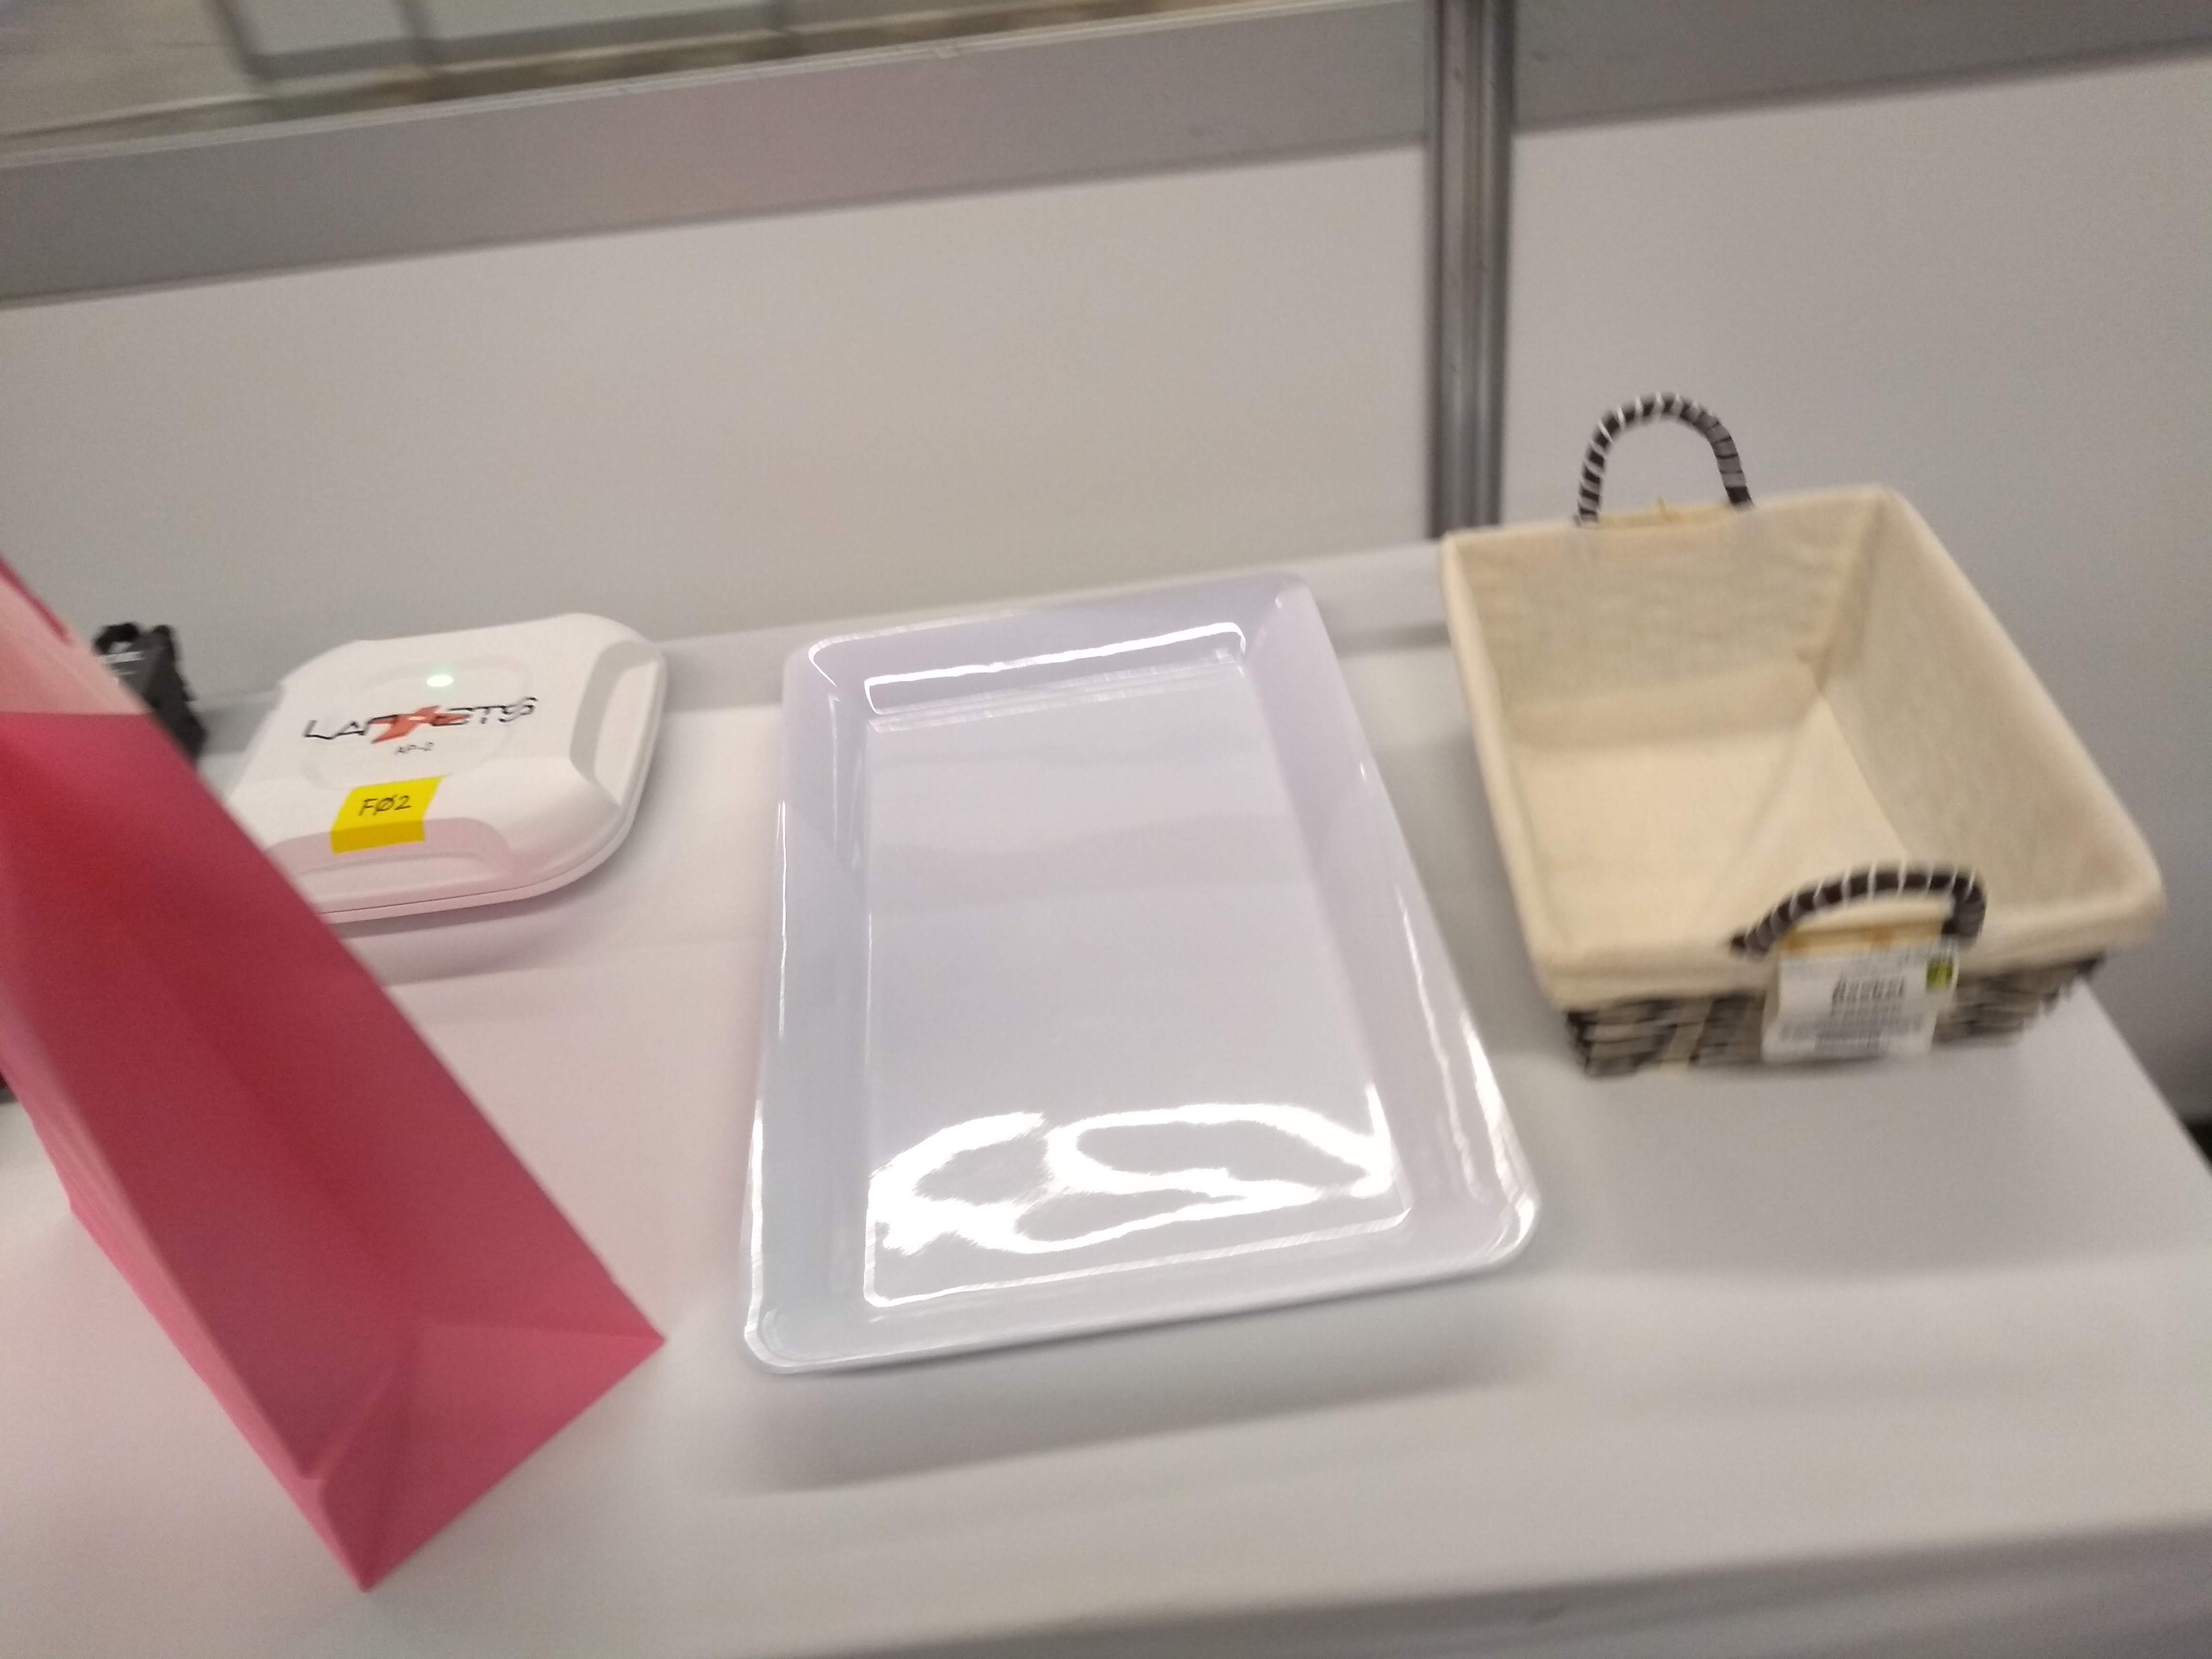basket: (1425, 385, 2172, 1124)
help_me_carry_opl: (0, 545, 683, 1600)
tray: (737, 572, 1557, 1375)
